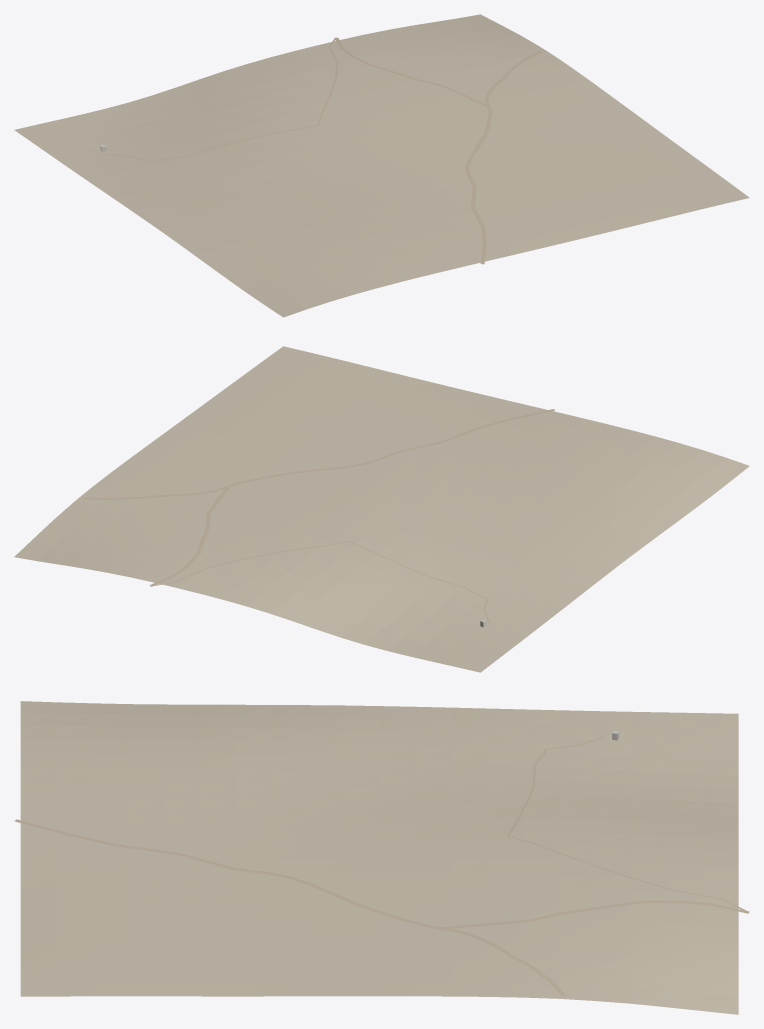
Rendered from bolak_2_-5.glb.
3 views of the same model, one above another, from view 1: azimuth 30°, elevation 25°; view 2: azimuth 150°, elevation 25°; view 3: azimuth 270°, elevation 25° (orthographic). The views are drawn at different scales.
Visible parts, largest first — view 1: Yer_Tuproq-col, Yol_Tuproq; view 2: Yer_Tuproq-col, Yol_Tuproq; view 3: Yer_Tuproq-col, Yol_Tuproq.
Part boxes in pixels (x1,y1,x2,y2): Yer_Tuproq-col: (14, 14, 749, 317); Yol_Tuproq: (105, 37, 542, 264); Yer_Tuproq-col: (14, 346, 749, 672); Yol_Tuproq: (83, 409, 554, 623); Yer_Tuproq-col: (20, 701, 738, 1014); Yol_Tuproq: (14, 737, 749, 996).
Bounding box in the file's own units: 400 × 14.51 × 410.
